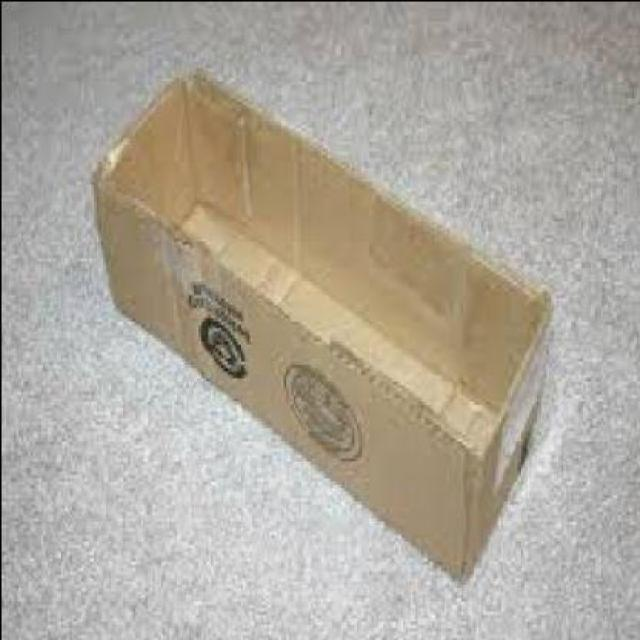box: (94, 63, 555, 580)
